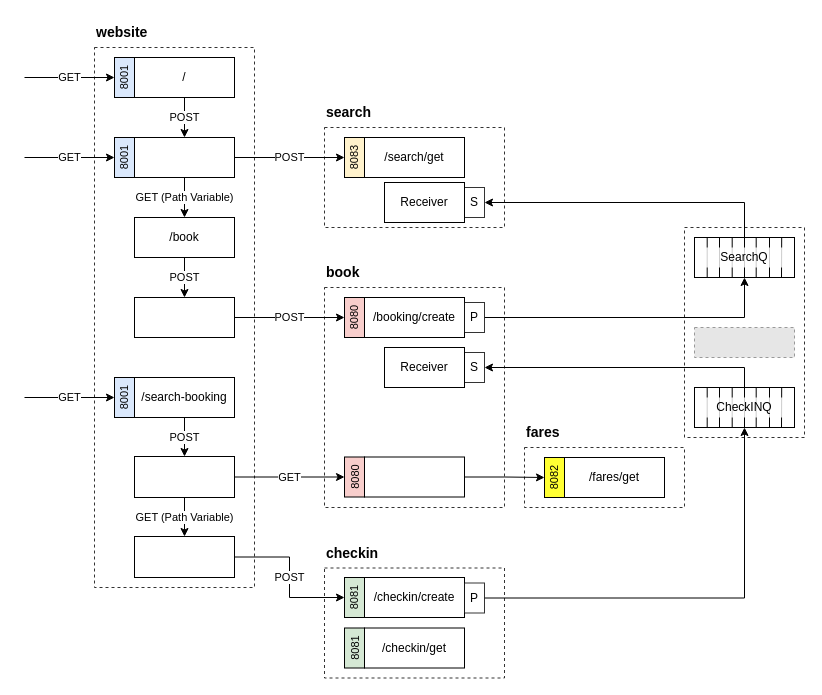
This 822x695 diagram has some shape labels left out. Grey dashed boxes stand in for pictures. The shapes that lost their labels are listed below. From the top down, each one's centre as x and y in pixels, then its label:
At (x=184, y=157): "/search".
At (x=184, y=317): "/confirm".
At (x=184, y=477): "/search-booking-get".
At (x=414, y=476): "/booking/get".
At (x=184, y=557): "/checkin".
